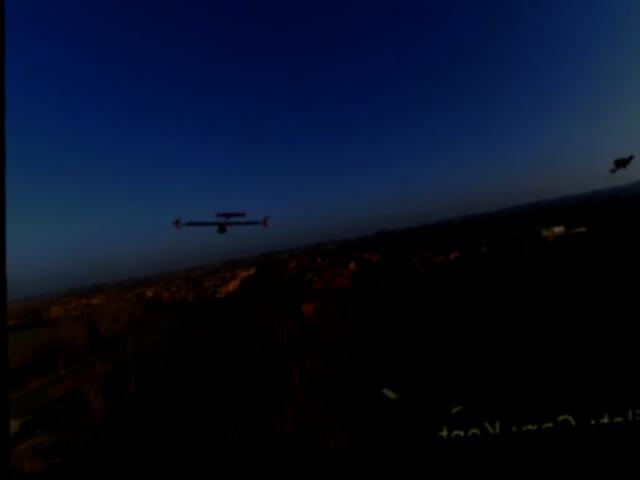uav: (163, 198, 277, 250)
